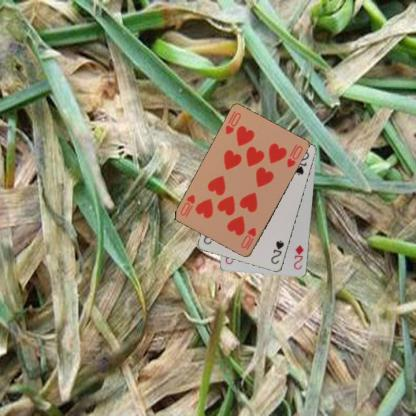10h: (238, 225, 258, 252), (223, 110, 242, 136)
2d: (291, 243, 305, 271)
2s: (268, 238, 286, 266)
